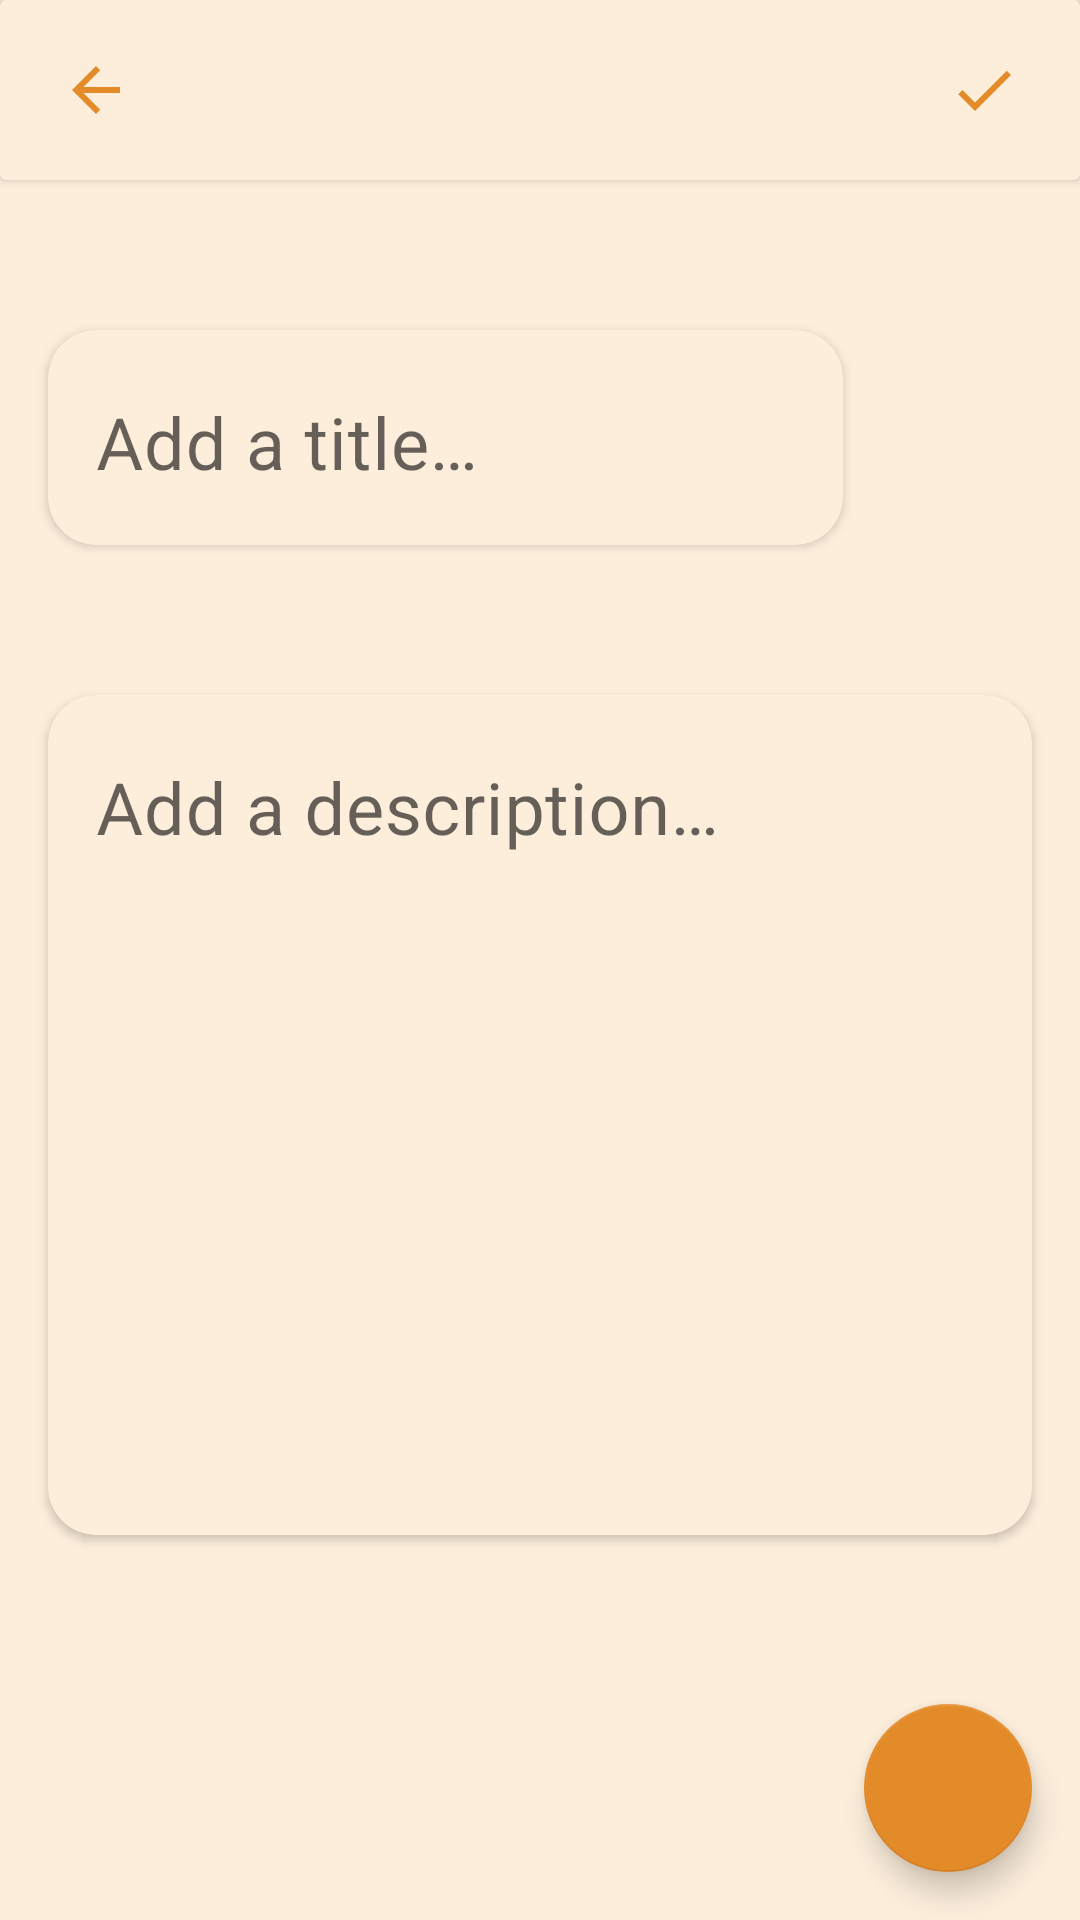

Screen size 1080×1920. Icon name, then its box in pixels as bbox(x1, y1, x2, y2):
arrow back: bbox(72, 66, 120, 114)
check: bbox(958, 71, 1011, 111)
